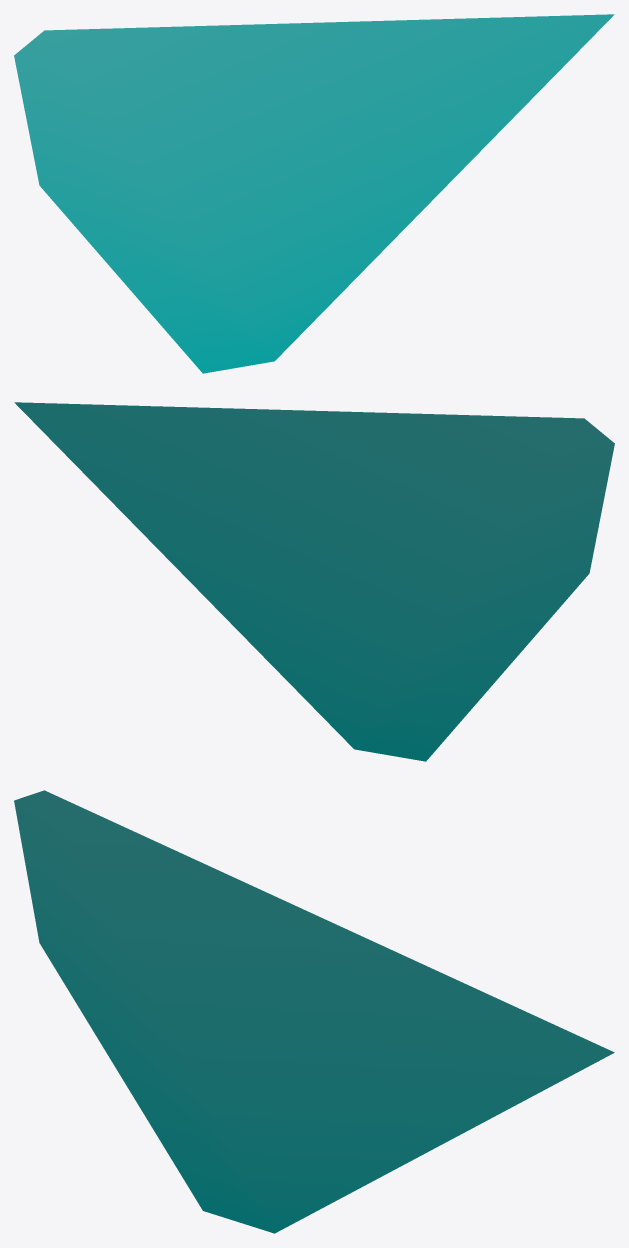
Rendered from Lady_Fern_wdvlditia_Mid_wdvlditia_VarI_LOD2.fbx.
The picture shows the model from 3 angles, top to bottom: view 1: azimuth 30°, elevation 25°; view 2: azimuth 150°, elevation 25°; view 3: azimuth 330°, elevation 25°; orthographic projection.
Parts seen in each view (by area): view 1: _usra_VarI_LOD6; view 2: _usra_VarI_LOD6; view 3: _usra_VarI_LOD6.
Boxes of the visible parts, x1,y1,x2,y2 form: _usra_VarI_LOD6: [14, 14, 614, 373]; _usra_VarI_LOD6: [14, 402, 614, 761]; _usra_VarI_LOD6: [14, 790, 614, 1233].
Bounding box in the file's own units: 98.99 × 60.94 × 0.
